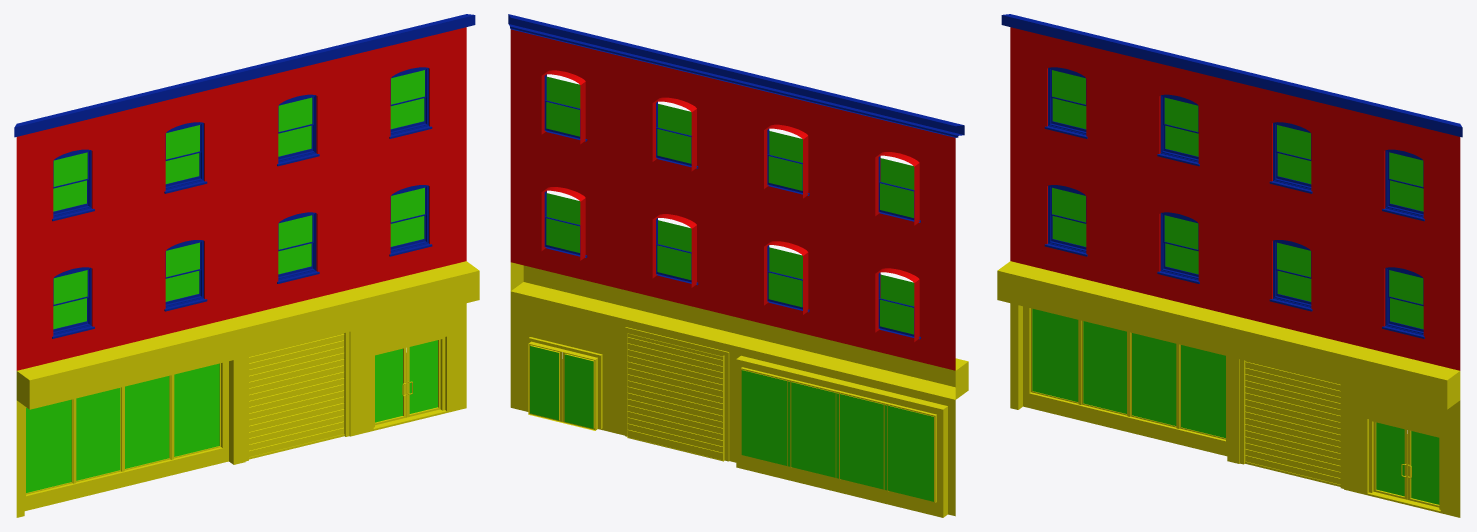
The model's file is MDL_U_B2_V1_Front.fbx.
The picture shows the model from 3 angles, left to right: view 1: azimuth 30°, elevation 25°; view 2: azimuth 150°, elevation 25°; view 3: azimuth 330°, elevation 25°; orthographic projection.
Visible parts, largest first — view 1: MDL_U_B2_V1_Front; view 2: MDL_U_B2_V1_Front; view 3: MDL_U_B2_V1_Front.
Part boxes in pixels (x1=…): MDL_U_B2_V1_Front: x1=14, y1=14, x2=479, y2=517; MDL_U_B2_V1_Front: x1=508, y1=14, x2=968, y2=517; MDL_U_B2_V1_Front: x1=997, y1=14, x2=1462, y2=517.
Size of the model in its own units: 1640 by 1340 by 122.
